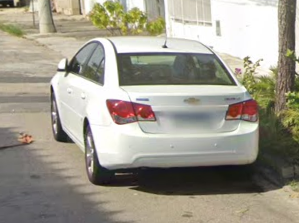car: (46, 37, 260, 189)
